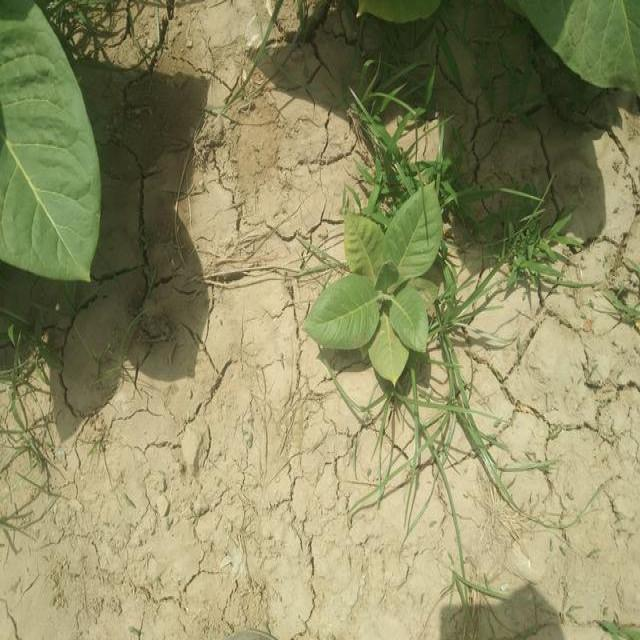crop: (0, 0, 96, 282), (302, 196, 441, 388), (524, 9, 640, 92)
